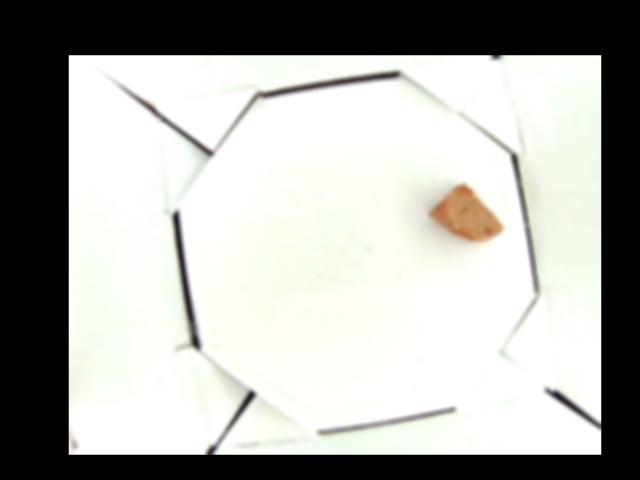Brisk: (428, 184, 504, 241)
